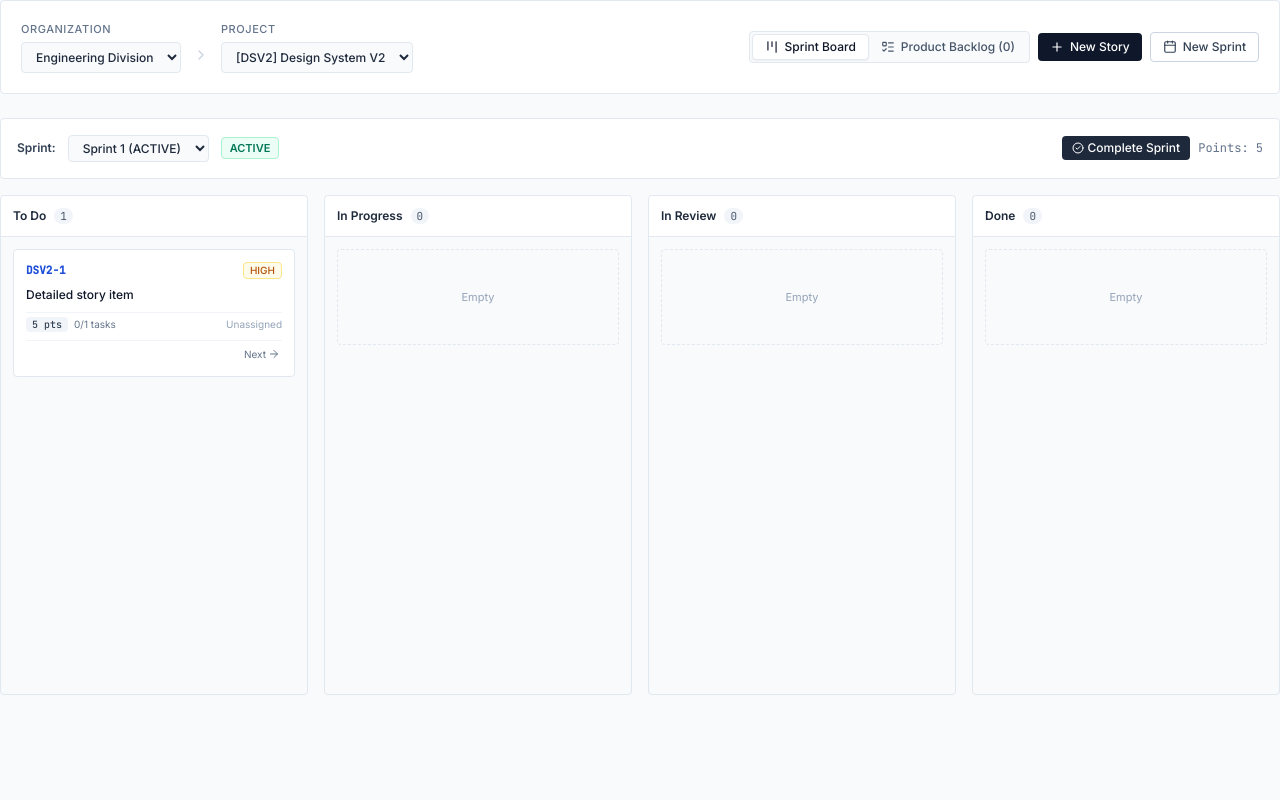
Scenario: Phase 3: Requirements & Sprint Planning Components › opens Story Details modal displaying Acceptance Criteria and tasks
This screenshot has width=1280, height=800.
Click the text "Detailed story item" at (80,294), box left=26, top=287, right=134, bottom=302
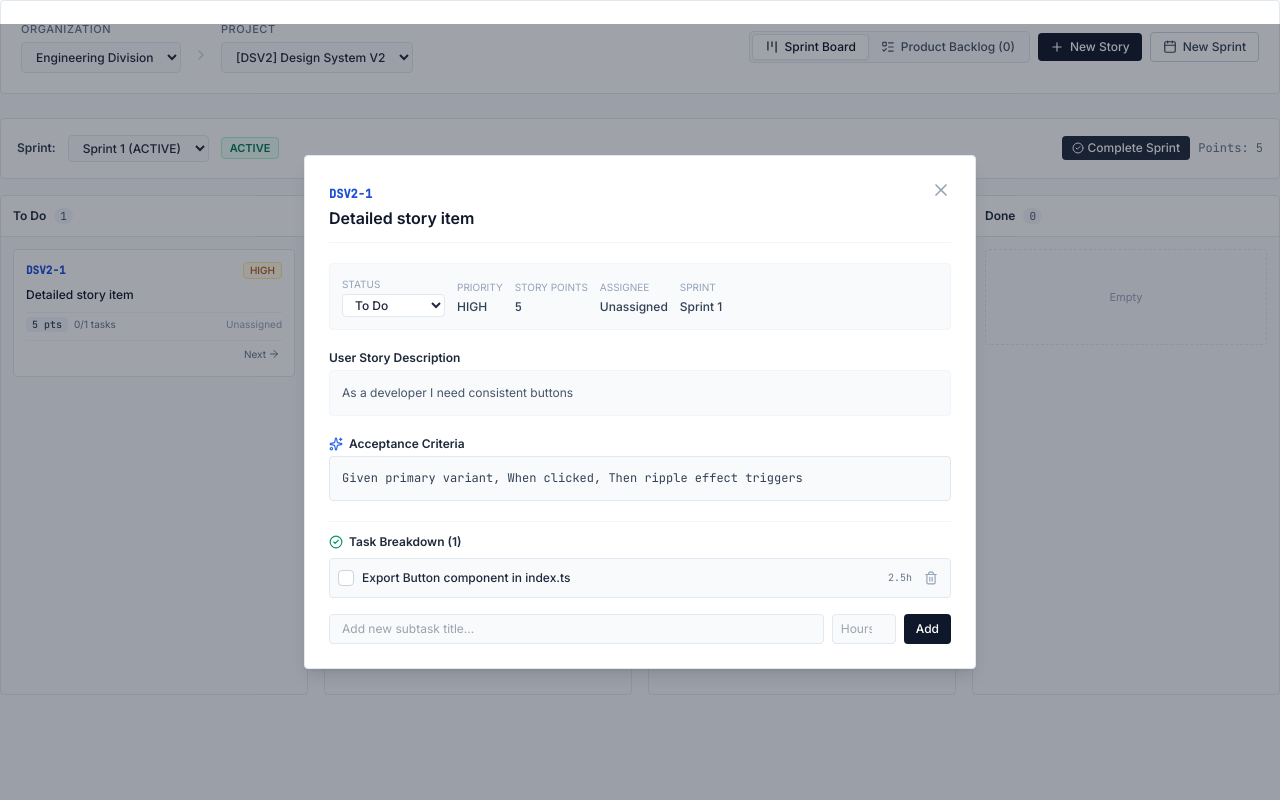
Result: the heading "User Story Description" is shown at left=329, top=350, right=460, bottom=365
Result: the text "As a developer I need consistent buttons" is shown at left=329, top=370, right=951, bottom=416
Result: the text "Given primary variant, When clicked, Then ripple effect triggers" is shown at left=329, top=456, right=951, bottom=501
